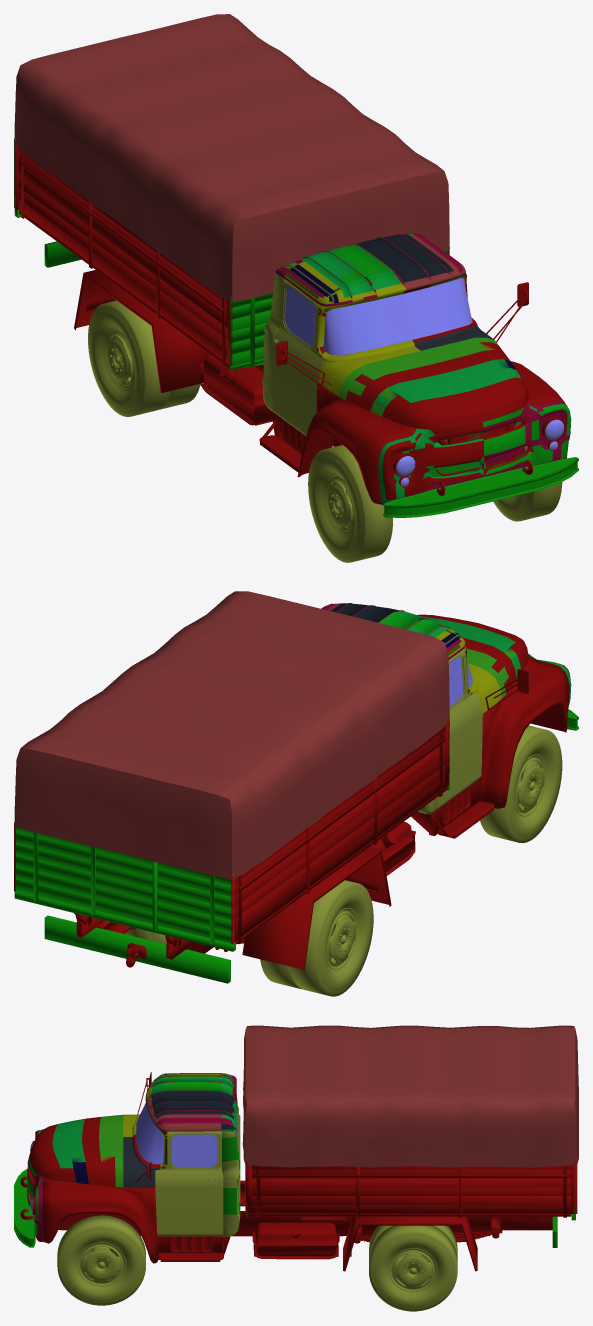
Rendered from ZIL130.fbx.
The picture shows the model from 3 angles, top to bottom: view 1: azimuth 30°, elevation 25°; view 2: azimuth 150°, elevation 25°; view 3: azimuth 270°, elevation 25°; orthographic projection. The views are drawn at different scales.
Parts seen in each view (by area): view 1: Truck_body, Truck_Covers, Truck_Wheel_AR, Truck_Wheel_FL, Zil_Door_FL, Truck_Wheel_FR; view 2: Truck_Covers, Truck_body, Truck_Zil130_TrailerDoor, Truck_Wheel_AR, Truck_Wheel_FL, Zil_Door_FL; view 3: Truck_body, Truck_Covers, Truck_Wheel_AR, Zil_Door_FR, Truck_Wheel_FR, Truck_Zil130_TrailerDoor.
Part boxes in pixels (x1,y1,x2,y2): Truck_body: [18, 148, 578, 517]; Truck_Covers: [14, 14, 449, 301]; Truck_Wheel_AR: [88, 300, 200, 416]; Truck_Wheel_FL: [308, 445, 392, 562]; Zil_Door_FL: [272, 279, 324, 435]; Truck_Wheel_FR: [493, 482, 562, 521]; Truck_Covers: [14, 591, 449, 879]; Truck_body: [44, 603, 578, 983]; Truck_Zil130_TrailerDoor: [14, 823, 236, 951]; Truck_Wheel_AR: [124, 880, 373, 996]; Truck_Wheel_FL: [480, 725, 562, 843]; Zil_Door_FL: [437, 649, 482, 809]; Truck_body: [14, 1072, 571, 1271]; Truck_Covers: [242, 1025, 578, 1167]; Truck_Wheel_AR: [369, 1225, 457, 1311]; Zil_Door_FR: [155, 1131, 223, 1236]; Truck_Wheel_FR: [57, 1215, 145, 1305]; Truck_Zil130_TrailerDoor: [571, 1162, 577, 1220].
Bounding box in the file's own units: 260 × 269 × 662.
